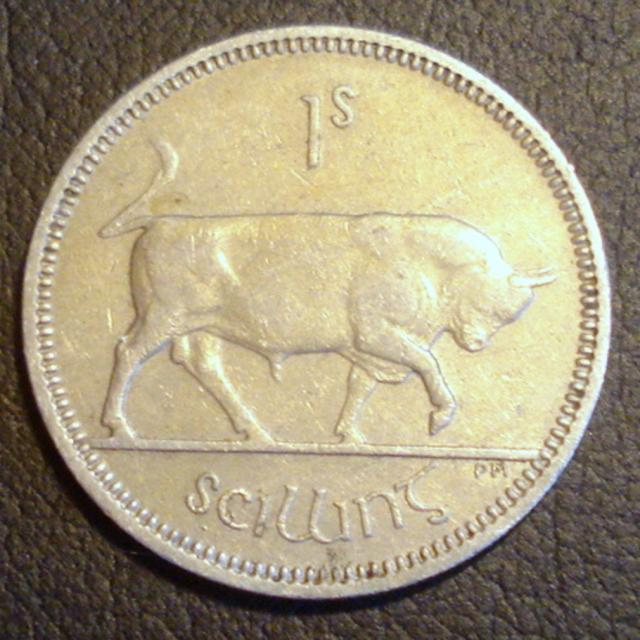Coin: (16, 22, 618, 603)
